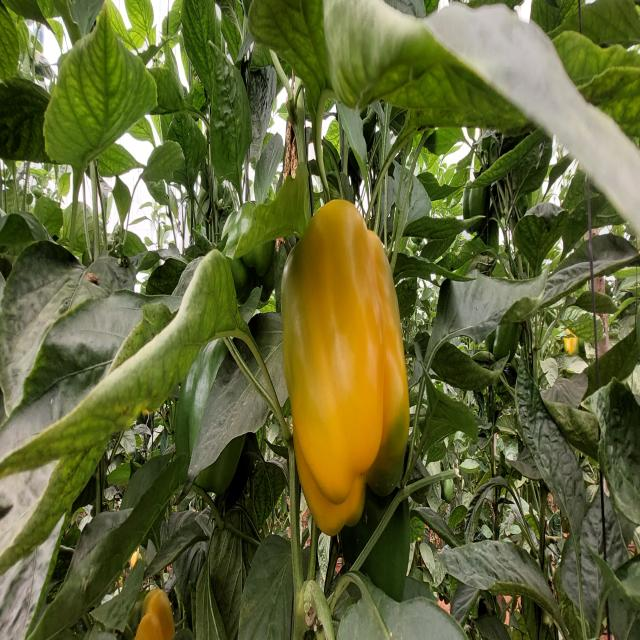Yellow-Ready-to-Harvest: (278, 196, 406, 536)
